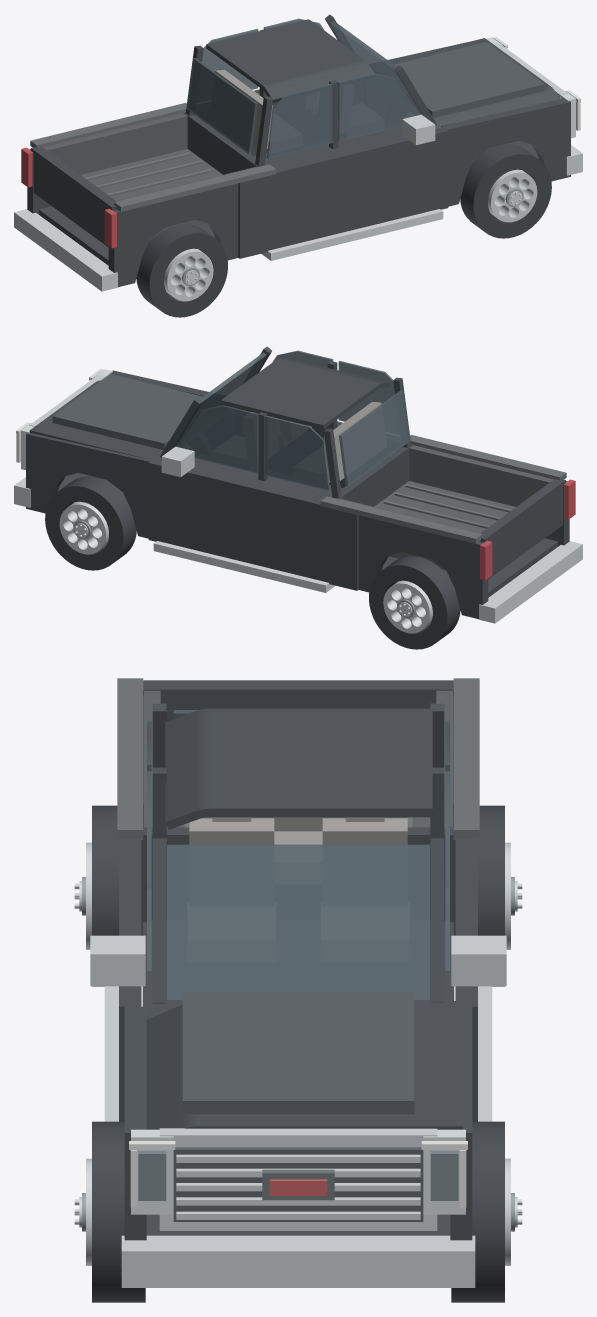
3 renders of one model, top to bottom at view 1: azimuth 30°, elevation 25°; view 2: azimuth 150°, elevation 25°; view 3: azimuth 270°, elevation 25°, orthographic. The views are drawn at different scales.
Visible parts, largest first — view 1: center_side1, roof_skin, wheel_front_right, hood_center, wheel_rear_right, front_side1, rear_side1, bed_inner0, front_glass1, bed_tailgate, rear_window, rear_glass1 (+23 smaller); view 2: center_side0, roof_skin, wheel_front_left, hood_center, wheel_rear_left, front_side0, rear_side0, bed_inner1, front_glass0, bed_tailgate, rear_window, rear_glass0 (+25 smaller); view 3: windshield, roof_skin, hood_center, front_bumper, hood_skin, bed_tailgate, grille_core, grille_surround, wheel_front_left, wheel_front_right, wheel_rear_left, wheel_rear_right (+36 smaller).
Boxes of the visible parts, x1,y1,x2,y2 form: center_side1: (238, 127, 448, 258); roof_skin: (206, 19, 374, 102); wheel_front_right: (460, 144, 551, 238); hood_center: (394, 42, 544, 117); wheel_rear_right: (136, 224, 227, 317); front_side1: (441, 98, 570, 206); rear_side1: (108, 183, 238, 287); bed_inner0: (43, 113, 187, 174); front_glass1: (338, 73, 419, 141); bed_tailgate: (31, 147, 116, 247); rear_window: (186, 58, 257, 154); rear_glass1: (267, 83, 332, 158); center_side0: (148, 460, 358, 590); roof_skin: (221, 358, 390, 429); wheel_front_left: (45, 476, 136, 570); hood_center: (52, 374, 202, 449); wheel_rear_left: (369, 556, 460, 649); front_side0: (26, 433, 151, 538); rear_side0: (358, 515, 488, 619); bed_inner1: (409, 445, 553, 506); front_glass0: (177, 405, 258, 473); bed_tailgate: (480, 479, 565, 579); rear_window: (339, 390, 410, 486); rear_glass0: (264, 415, 329, 490); windshield: (167, 844, 429, 1000); roof_skin: (165, 708, 432, 829); hood_center: (182, 991, 414, 1114); front_bumper: (121, 1235, 475, 1287); hood_skin: (146, 1001, 463, 1129); bed_tailgate: (143, 680, 453, 721); grille_core: (173, 1147, 423, 1221); grille_surround: (159, 1128, 437, 1230); wheel_front_left: (451, 1121, 522, 1302); wheel_front_right: (74, 1121, 145, 1302); wheel_rear_left: (478, 805, 522, 986); wheel_rear_right: (74, 805, 118, 986).
Size of the model in its own units: 5.8 by 2.11 by 2.32.
